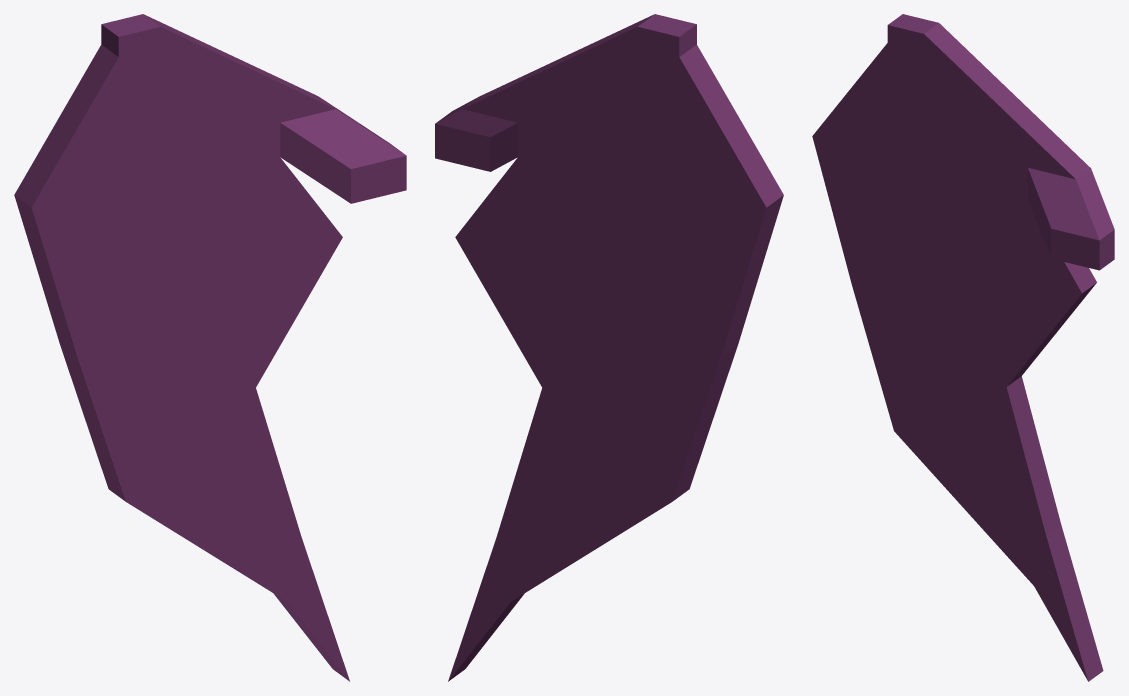
Rendered from aile_export.fbx.
3 views of the same model, side by side, from view 1: azimuth 30°, elevation 25°; view 2: azimuth 150°, elevation 25°; view 3: azimuth 330°, elevation 25° (orthographic). The views are drawn at different scales.
Parts seen in each view (by area): view 1: polySurface1; view 2: polySurface1; view 3: polySurface1.
Boxes of the visible parts, x1=… form: polySurface1: x1=14, y1=14, x2=406, y2=681; polySurface1: x1=435, y1=14, x2=783, y2=681; polySurface1: x1=812, y1=14, x2=1114, y2=681.
Size of the model in its own units: 3.93 by 7.45 by 0.7547.
